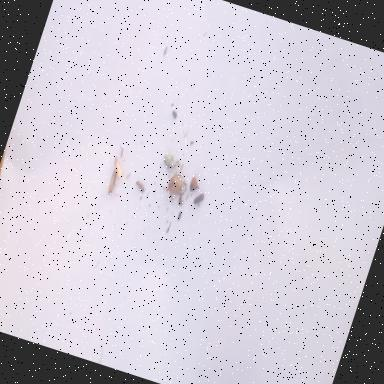pbw: (108, 156, 128, 184), (105, 167, 122, 195)
